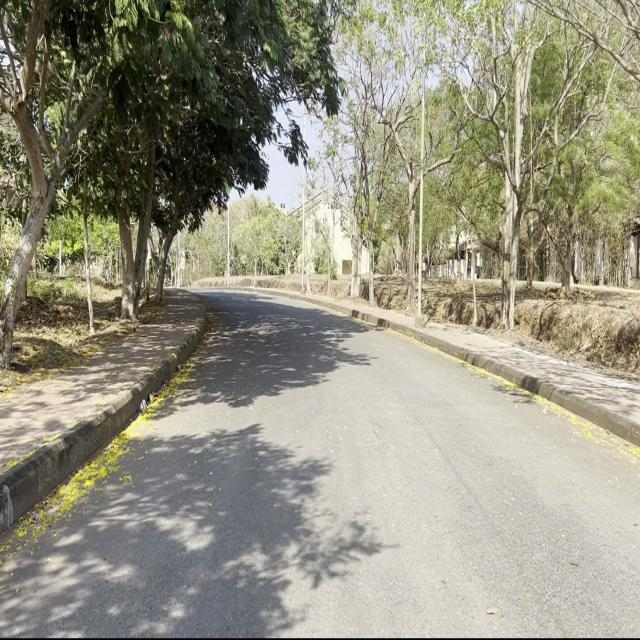Road: (2, 288, 635, 633)
